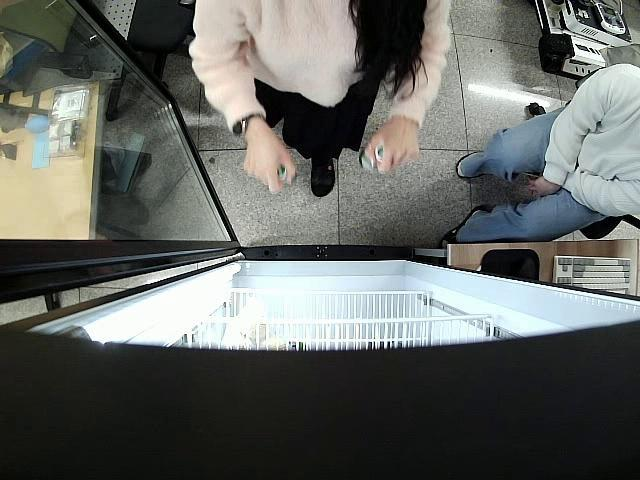18_trevi: (356, 141, 386, 172), (273, 162, 298, 186)
